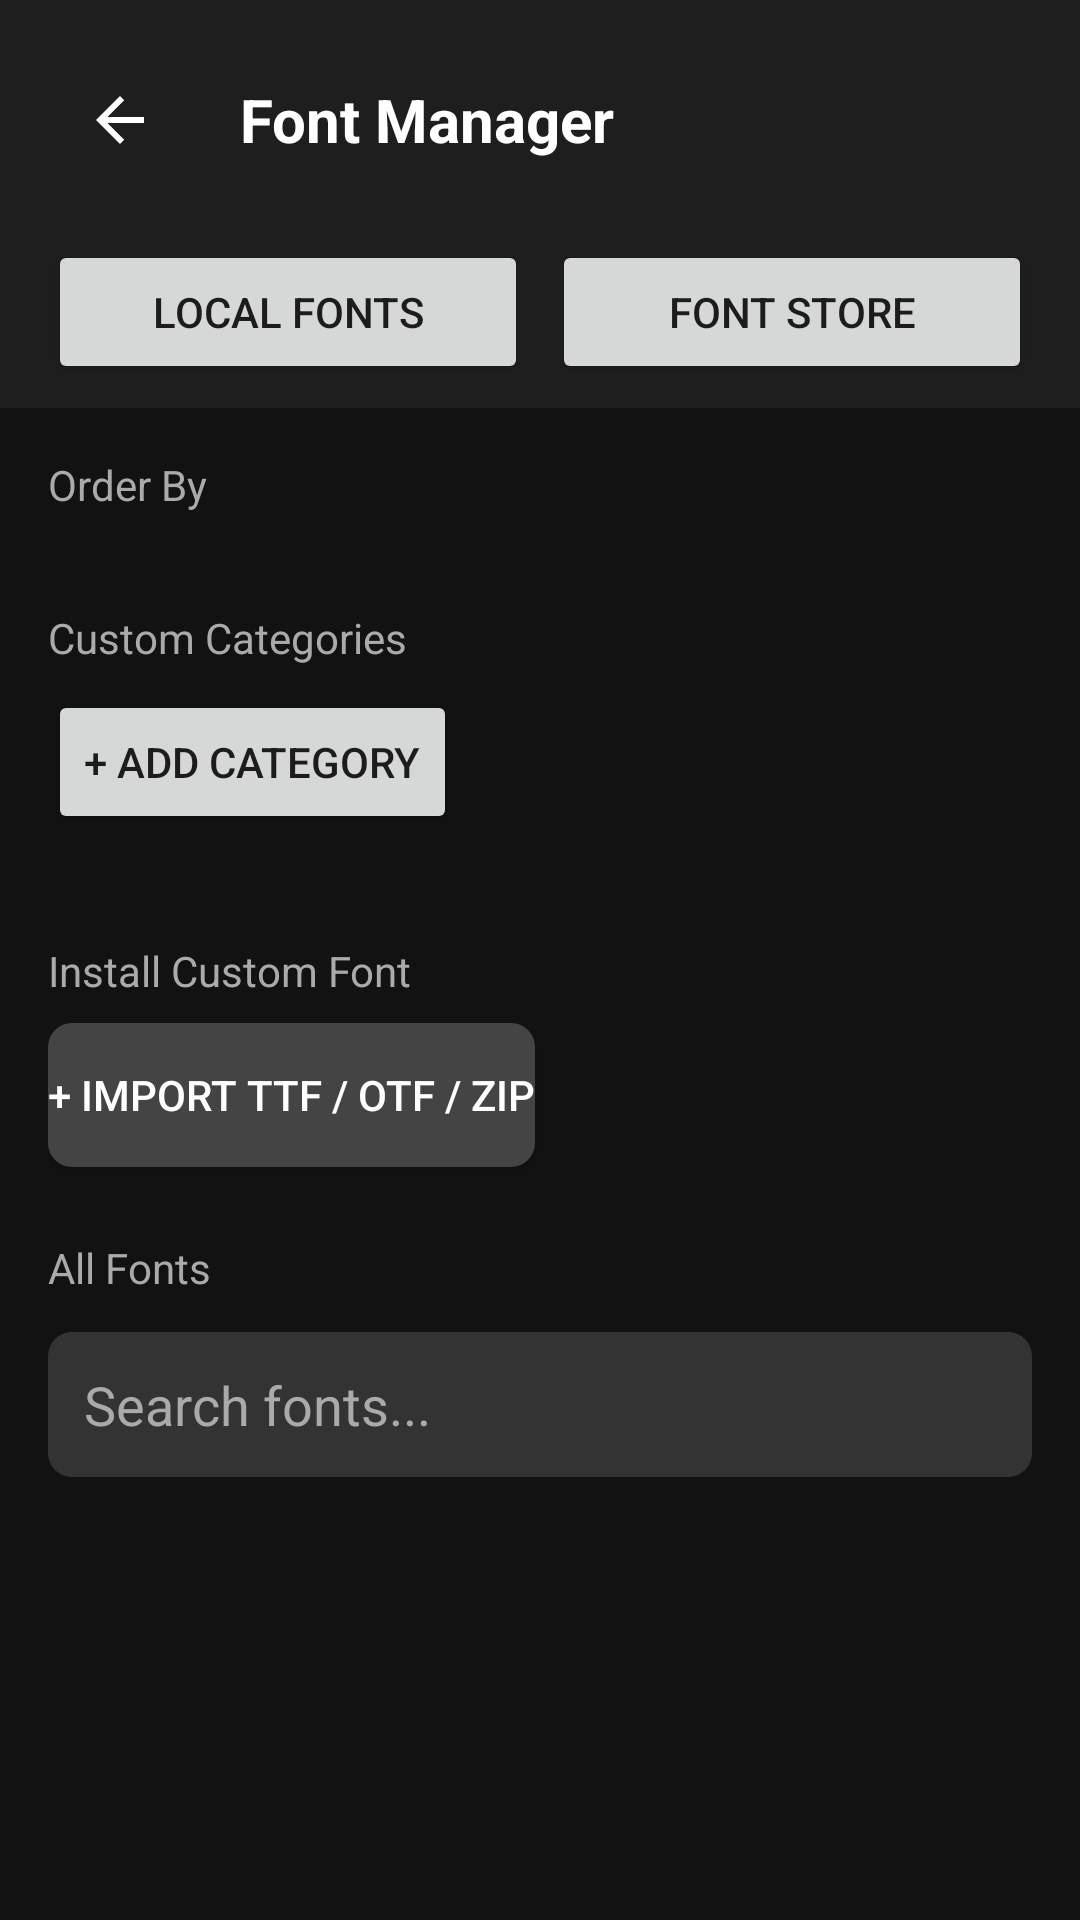

Screen size 1080w x 1920h. Icon name, then its box in pixels as [x1, y1, x2, y2]:
Back: [96, 96, 144, 144]
